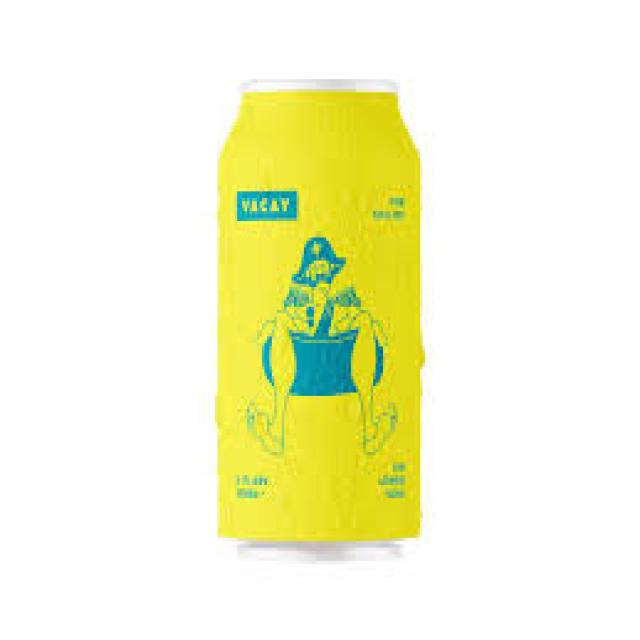Cans: (210, 69, 432, 561)
